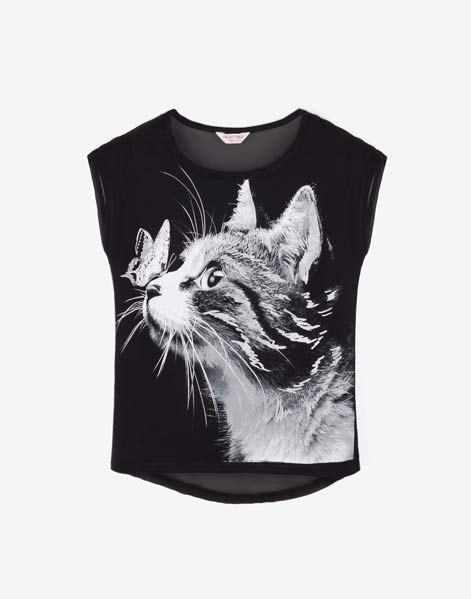cat: (119, 173, 353, 429)
